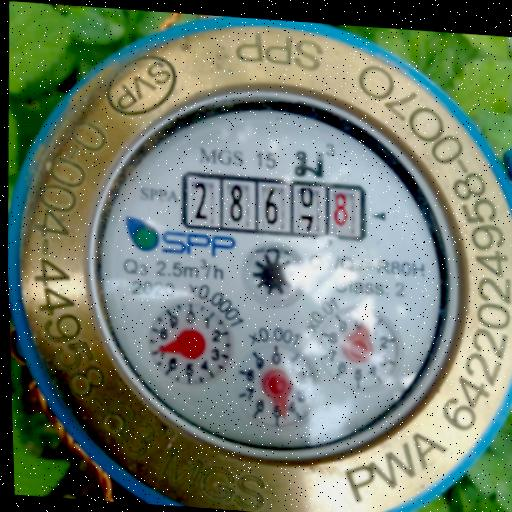2: (190, 182, 213, 224)
6: (261, 187, 283, 231), (297, 191, 319, 233)
8: (332, 193, 356, 234), (225, 184, 247, 227)
border_water_meter_number: (179, 171, 368, 242)
